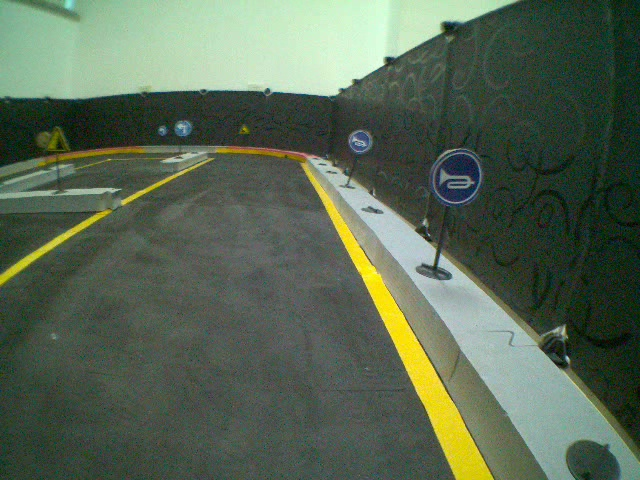fast: (40, 125, 71, 154), (236, 122, 251, 137)
horn: (430, 147, 484, 205), (348, 129, 373, 154)
turn: (174, 119, 190, 137)
